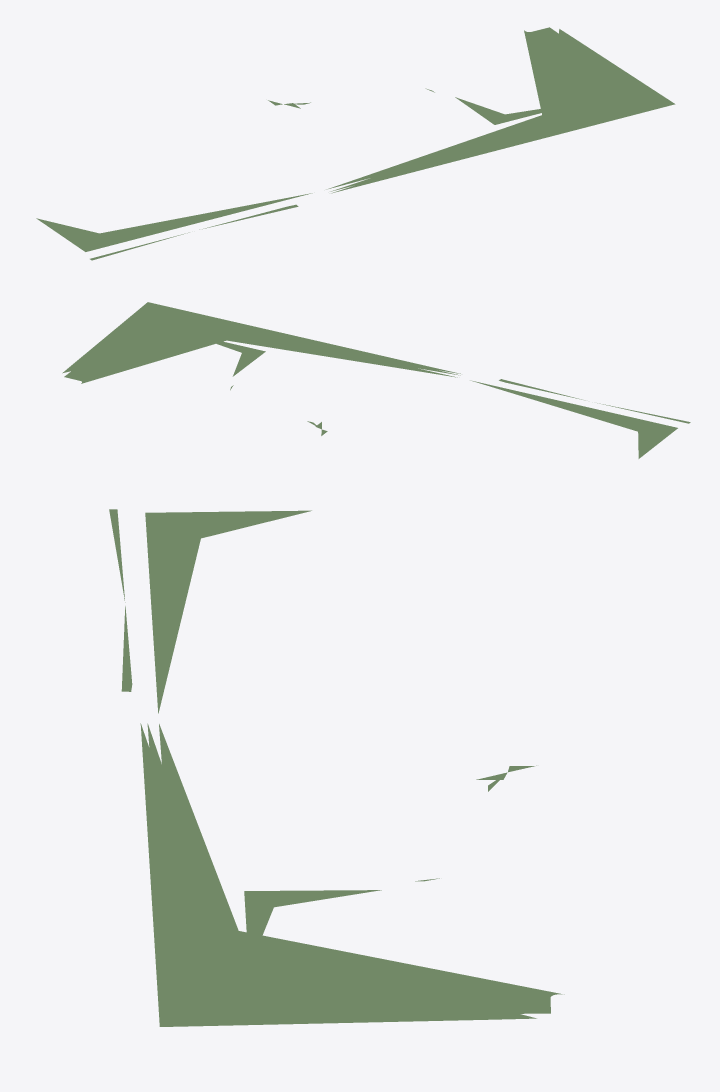
File: c_1643_17816_parks.glb
The picture shows the model from 3 angles, top to bottom: view 1: azimuth 30°, elevation 25°; view 2: azimuth 150°, elevation 25°; view 3: azimuth 270°, elevation 25°; orthographic projection. The views are drawn at different scales.
Visible parts, largest first — view 1: geometry_0; view 2: geometry_0; view 3: geometry_0.
Part boxes in pixels (x1,y1,x2,y2): geometry_0: (36, 27, 675, 260); geometry_0: (62, 302, 690, 458); geometry_0: (109, 509, 564, 1026).
Size of the model in its own units: 186 by 0 by 67.69.
